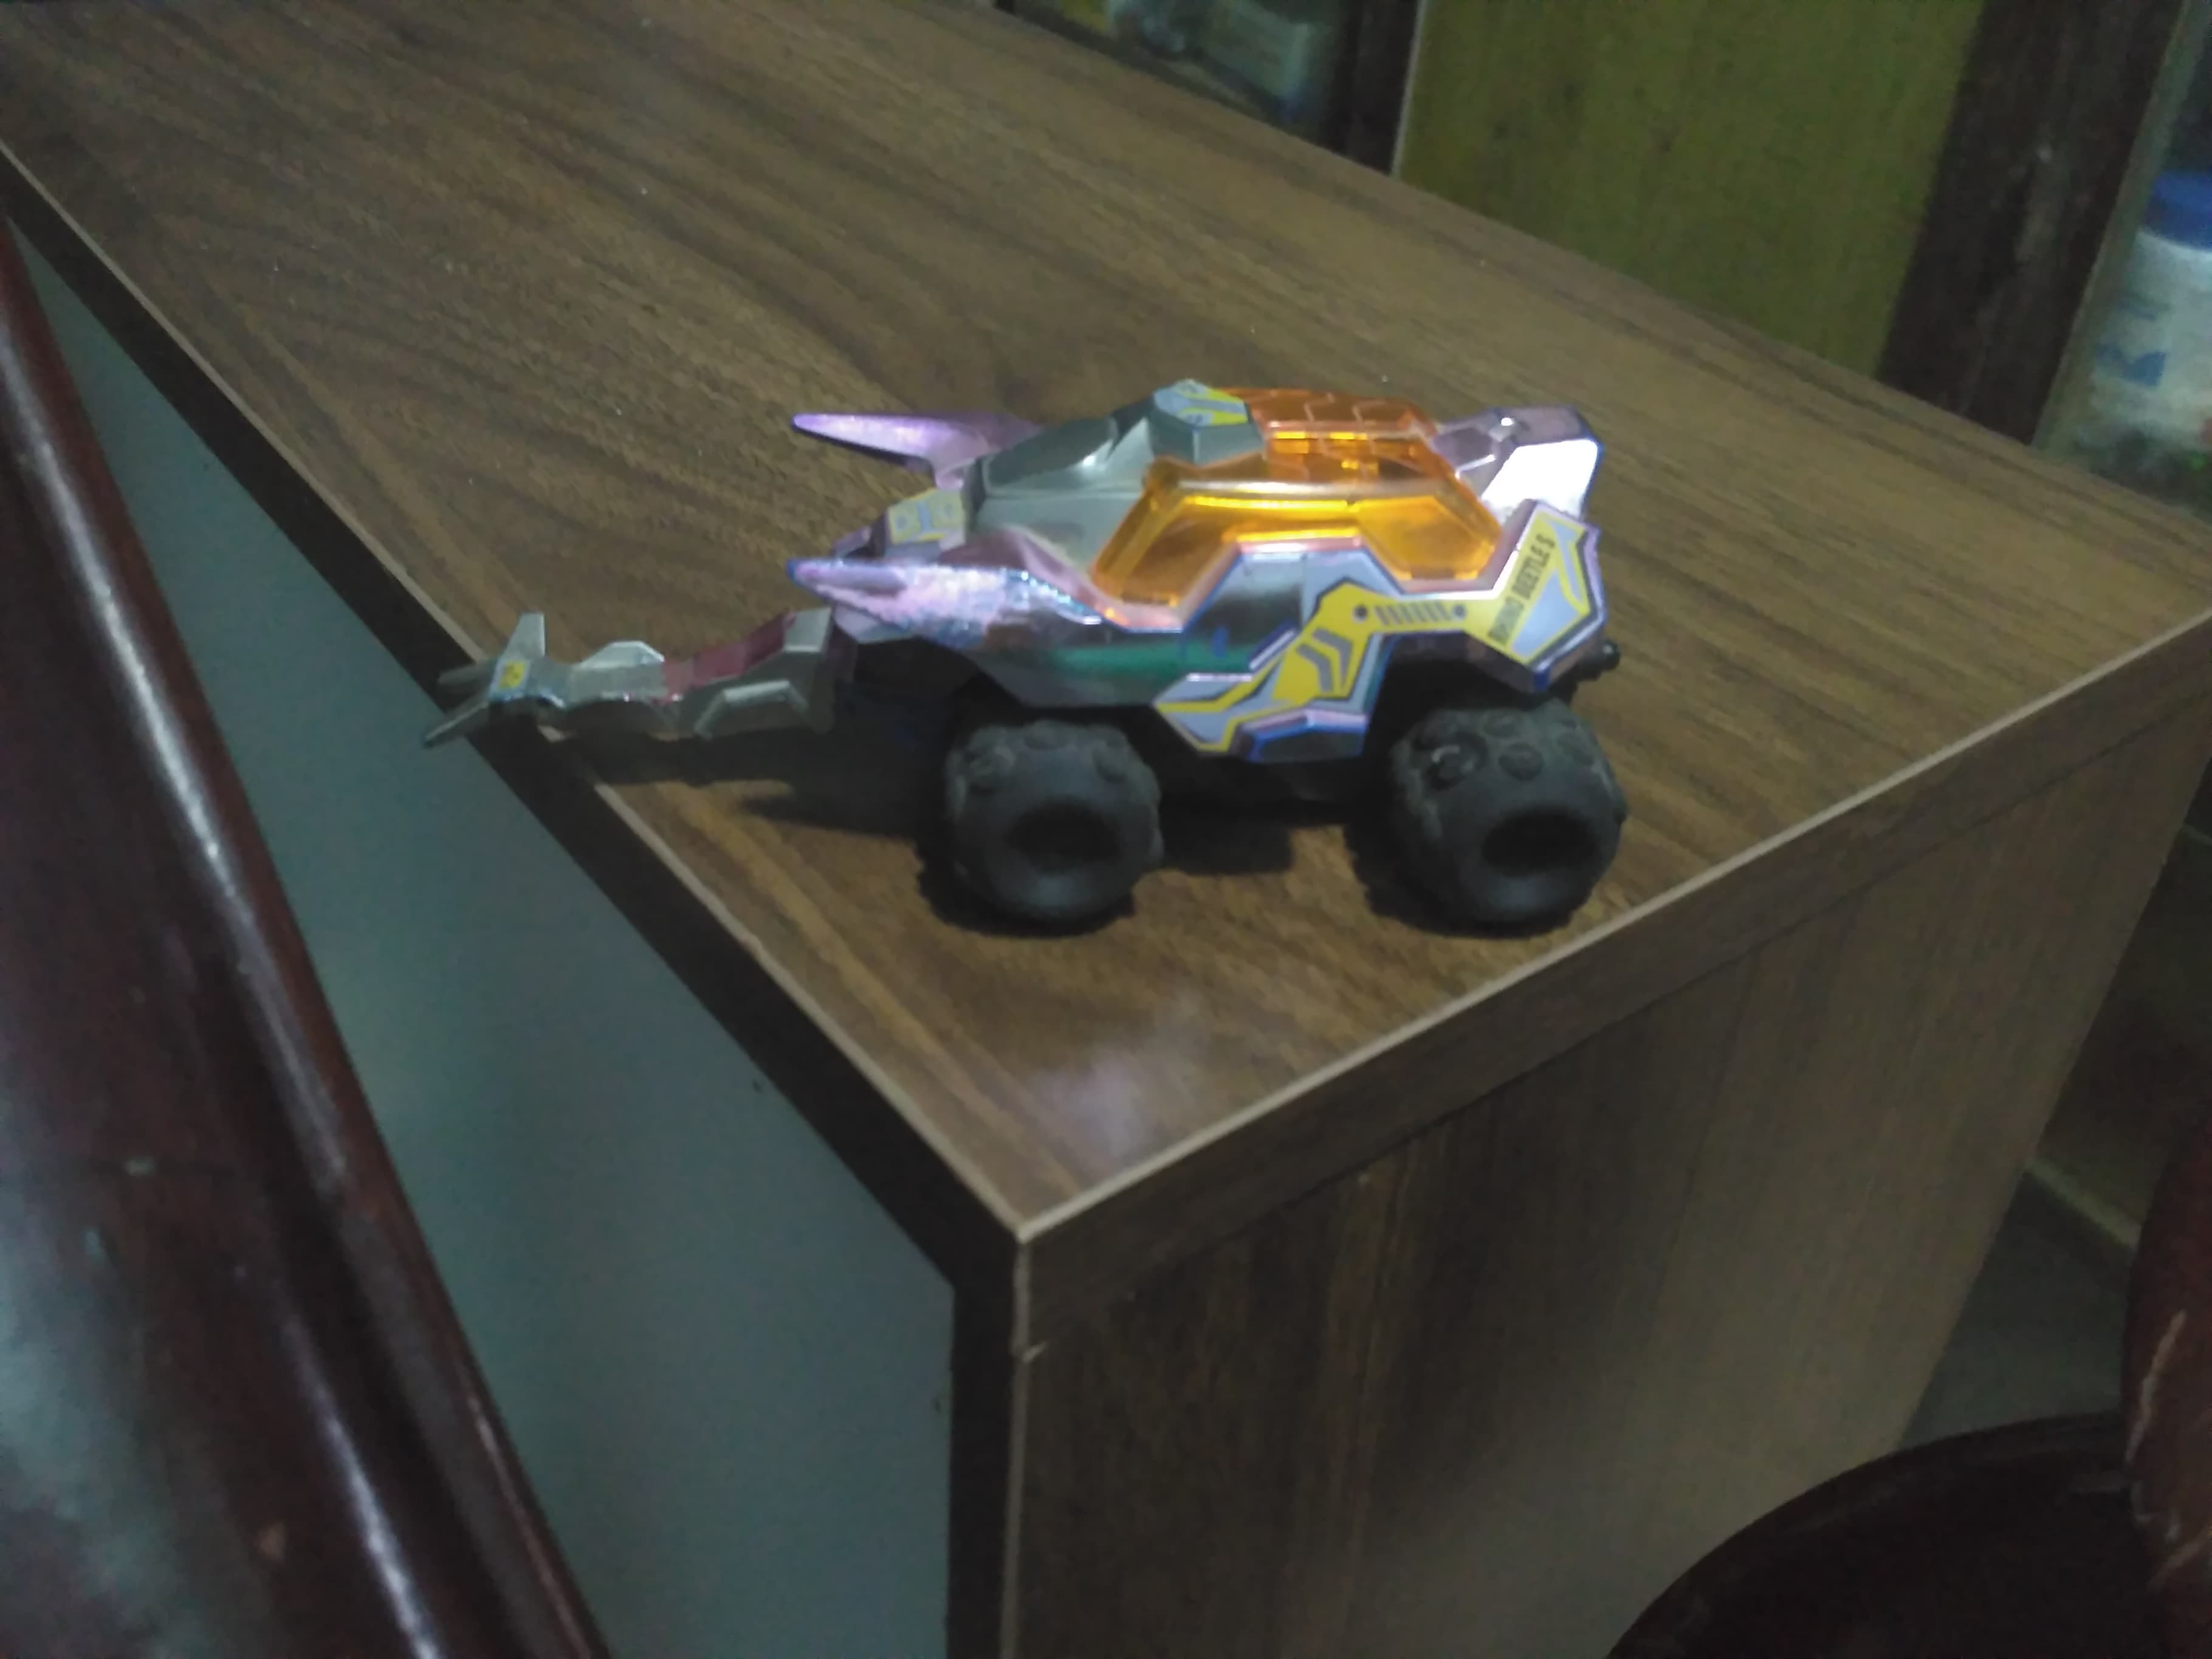rhino: (387, 385, 1634, 941)
